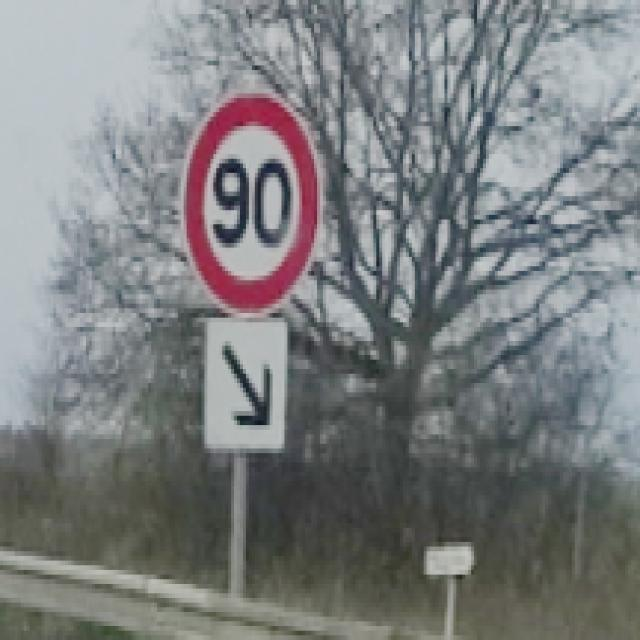speed_90: (182, 88, 325, 322)
